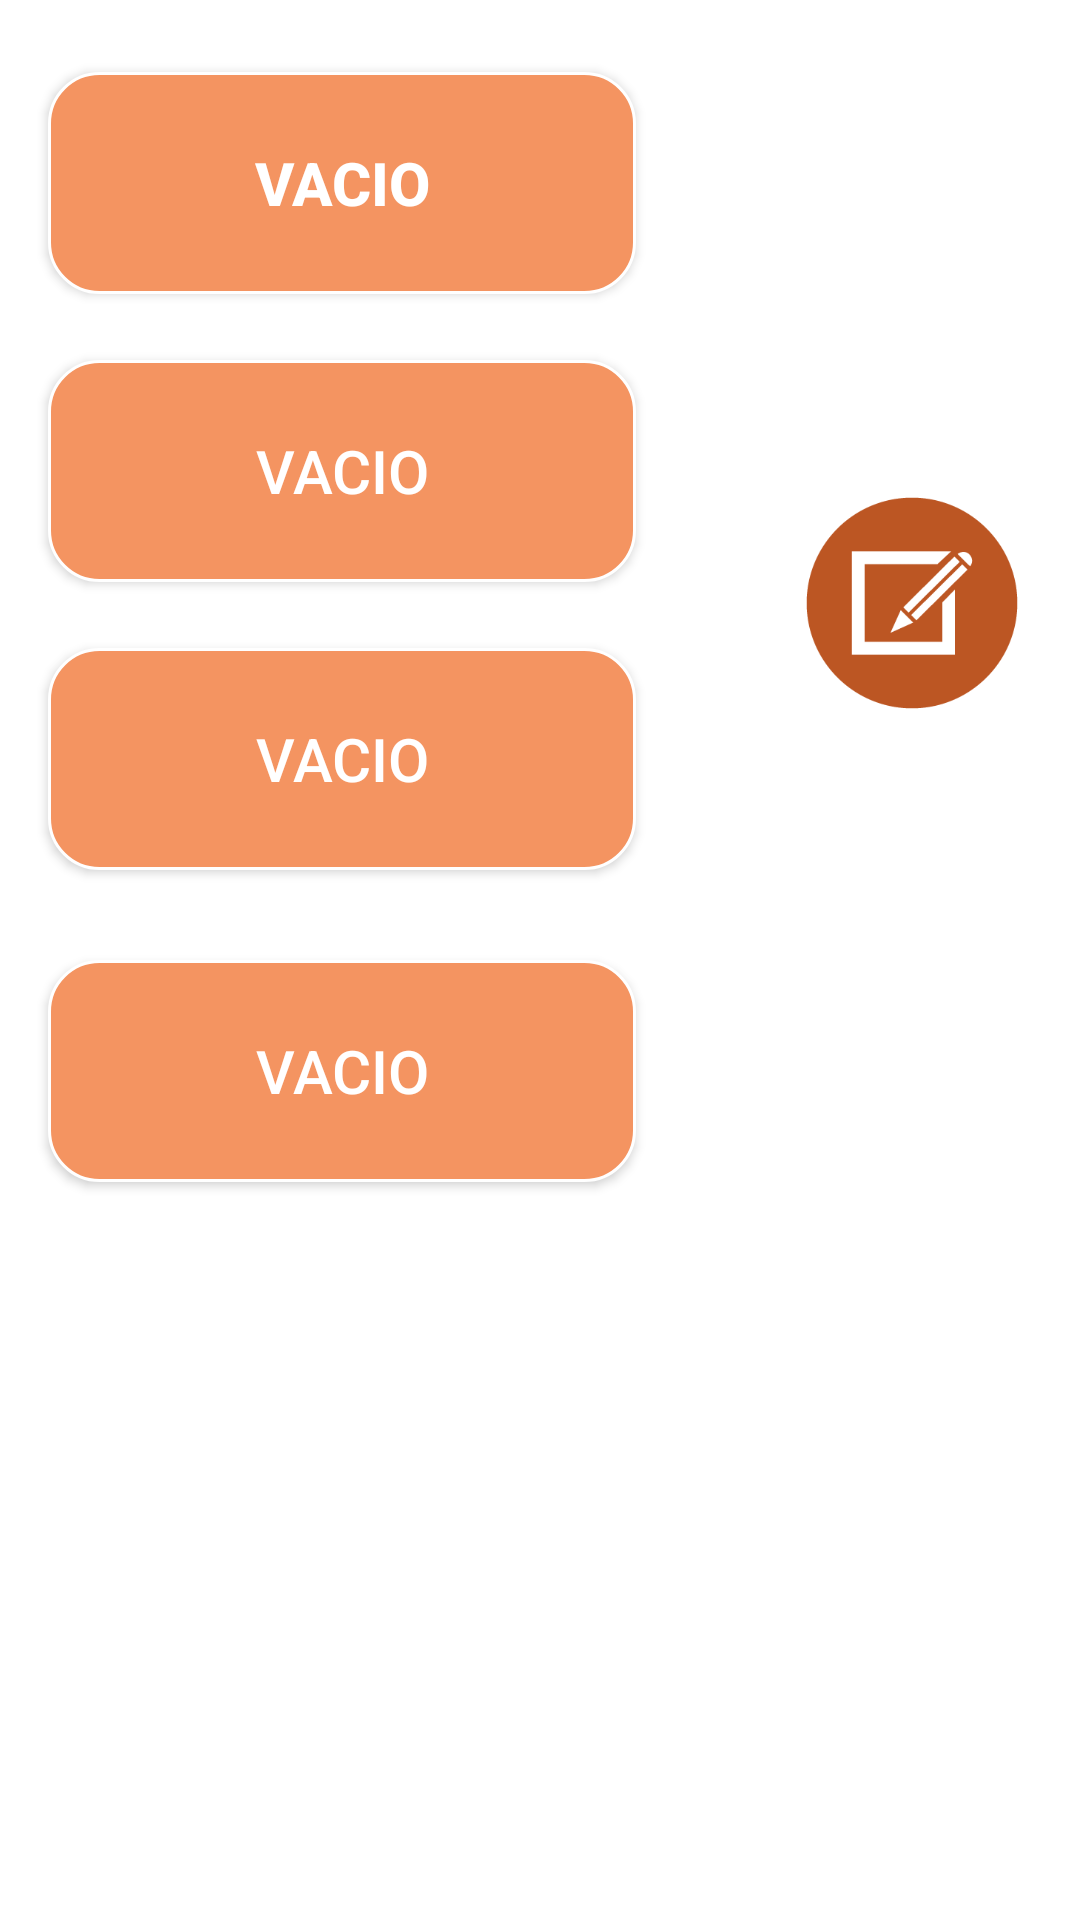

Icons on this 1080x1920 Android screen, each with its box as box(x1, y1, x2, y2):
editicon: box(806, 497, 1018, 709)
